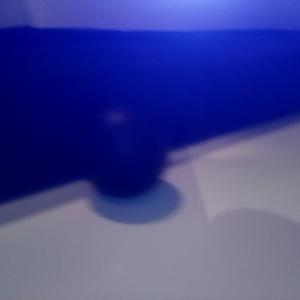dead_ball: (77, 111, 163, 197)
